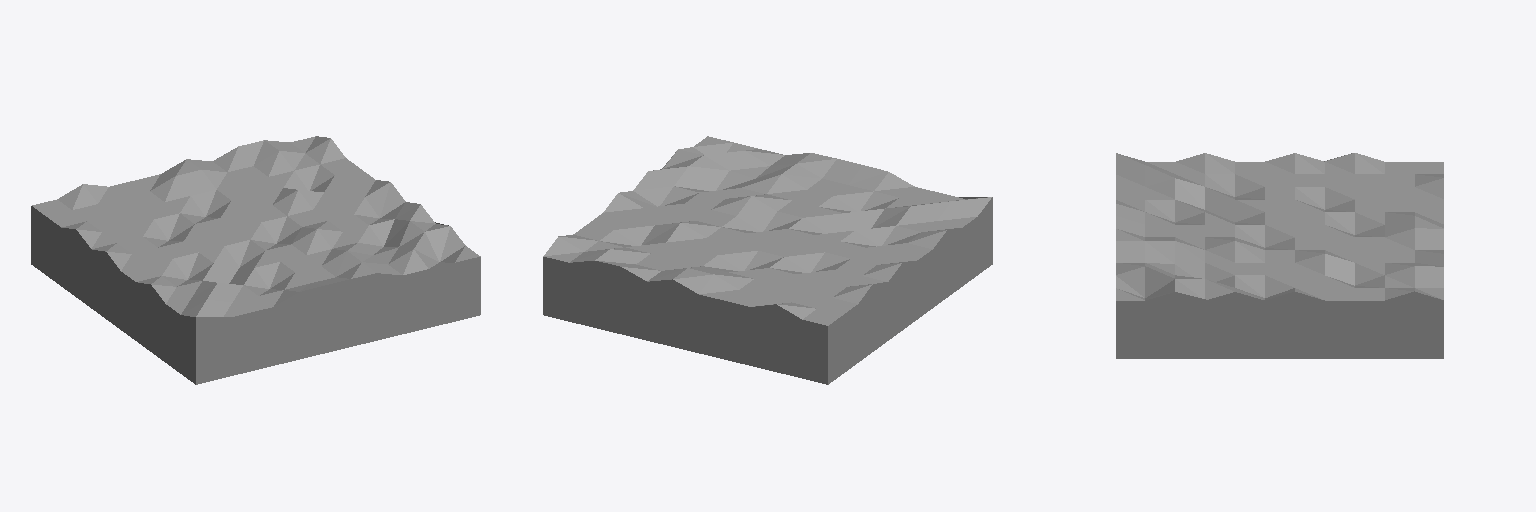
File: texturafoto.obj
3 renders of one model, left to right at view 1: azimuth 30°, elevation 25°; view 2: azimuth 150°, elevation 25°; view 3: azimuth 270°, elevation 25°, orthographic.
Visible parts, largest first — view 1: Cube_Cube.001; view 2: Cube_Cube.001; view 3: Cube_Cube.001.
Boxes of the visible parts, <box> form: Cube_Cube.001: <box>31,136,480,384</box>; Cube_Cube.001: <box>543,136,992,384</box>; Cube_Cube.001: <box>1116,153,1443,358</box>.
Size of the model in its own units: 2 by 0.4563 by 2.